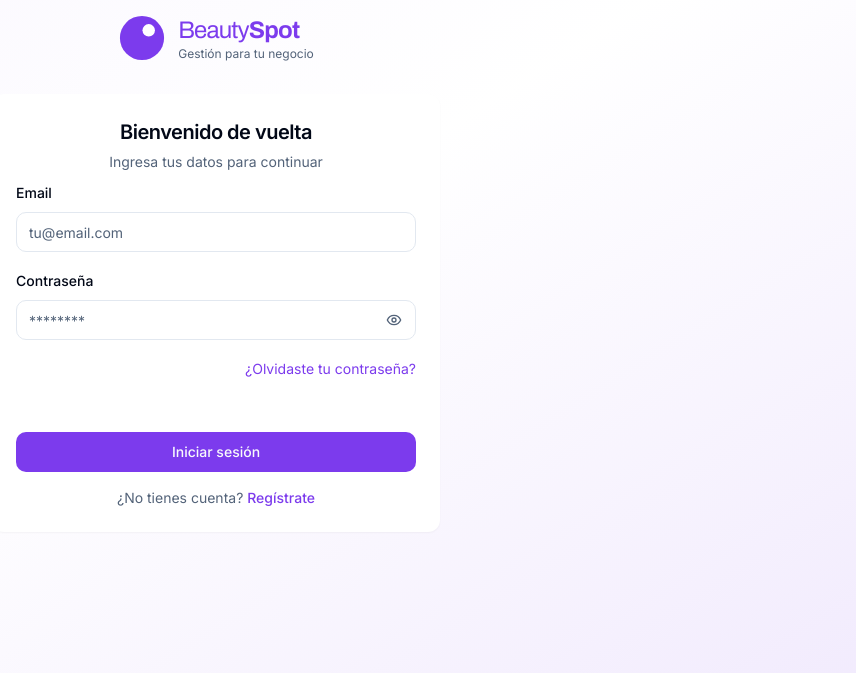
Test: LoginPage › no renueva la sesion cuando la contraseña es incorrecta
This screenshot has width=856, height=673.
Step 1. Type "owner@ejemplo.co" into the field labelled "Email" → (216, 232), box x1=16 y1=212 x2=416 y2=252
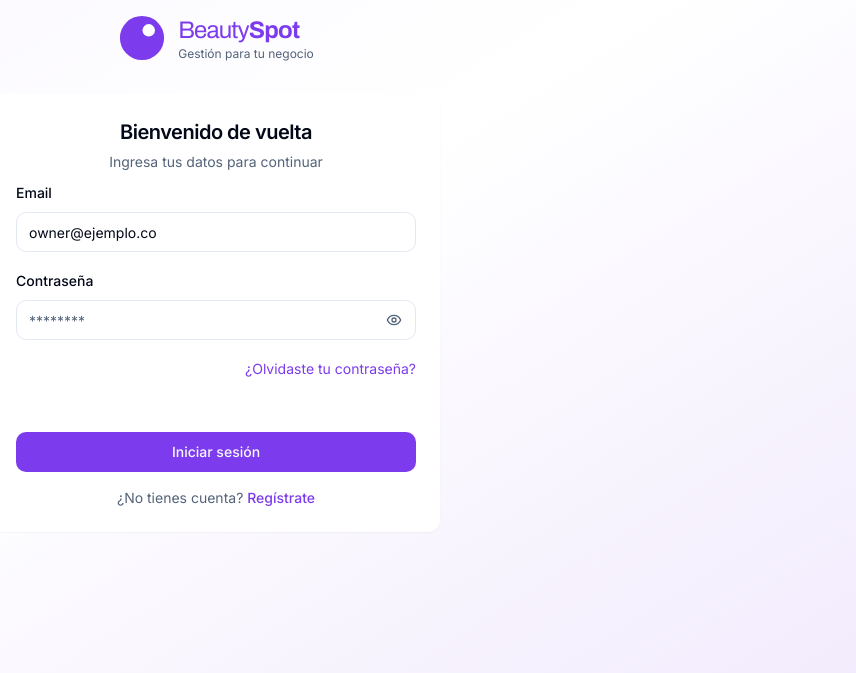
Step 2. Type "contraseña-incorrecta" into the password field labelled "Contraseña" → (216, 320), box x1=16 y1=300 x2=416 y2=340
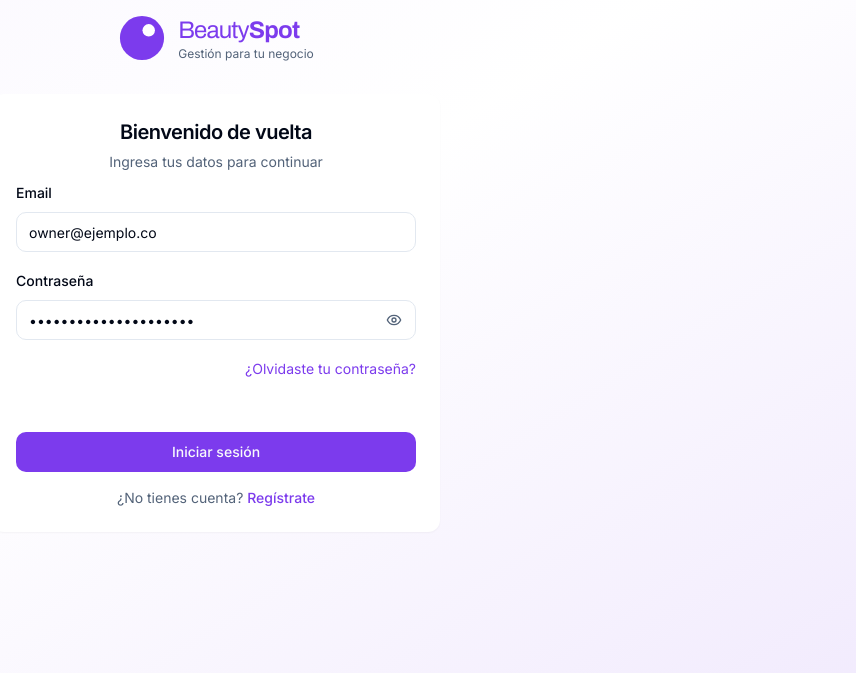
Step 3. Click the button "Iniciar sesión" → click(216, 452), box x1=16 y1=432 x2=416 y2=472
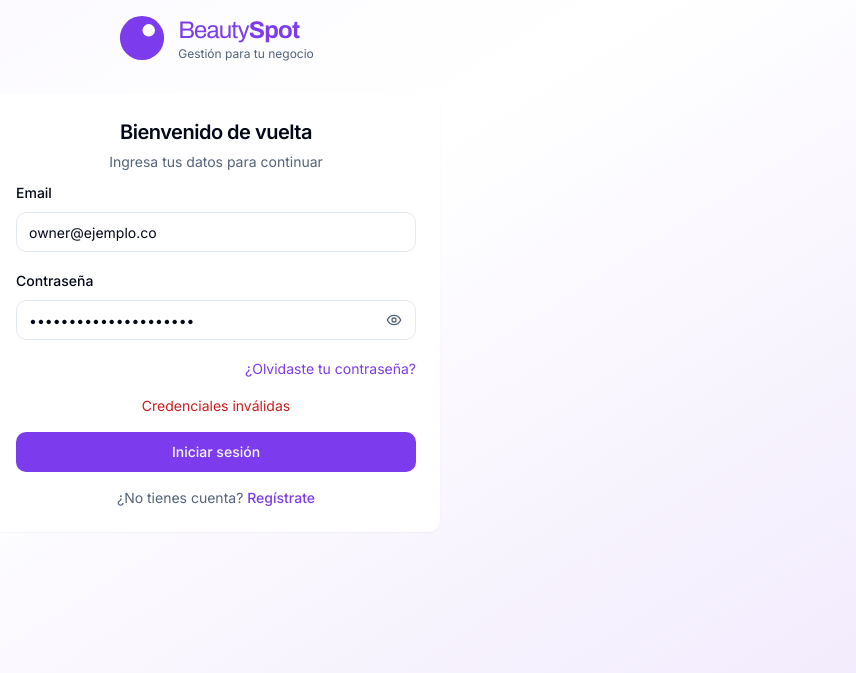
Result: the text "Credenciales inválidas" is shown at x1=142 y1=397 x2=290 y2=414
